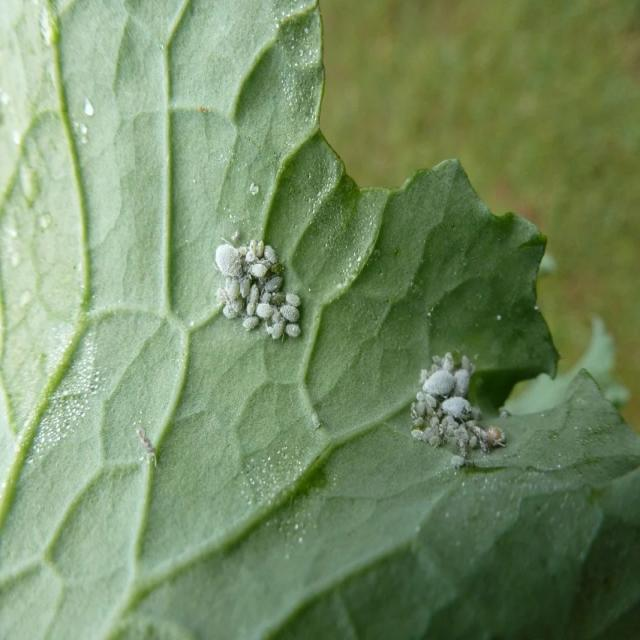aphid: (205, 234, 307, 348), (396, 363, 504, 460)
